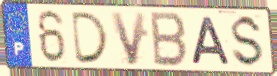6: (36, 9, 68, 66)
A: (189, 15, 233, 66)
B: (150, 10, 189, 69)
D: (70, 11, 111, 65)
S: (230, 13, 266, 70)
V: (109, 11, 148, 67)
